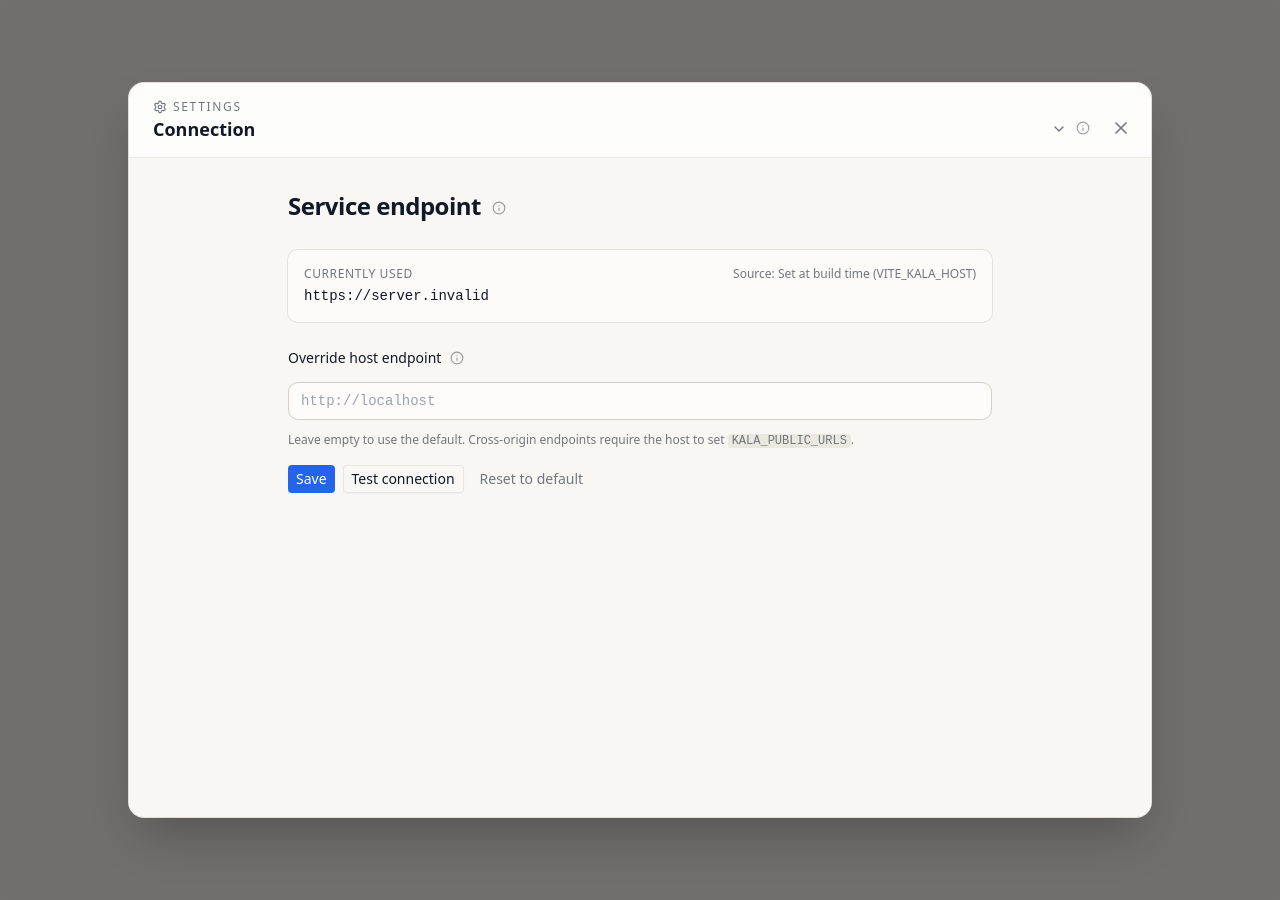
Scenario: SettingsDialog › uses a mobile-safe settings shell
Expected: the heading "Service endpoint" is shown, [288,189,511,222]
Expected: the label with test id "settings-mobile-section-picker" reads "Connection", [153,117,255,141]
Select "Runtime" in the dropdown with test id "settings-mobile-section-select" at (204, 129), box [153,117,1067,141]
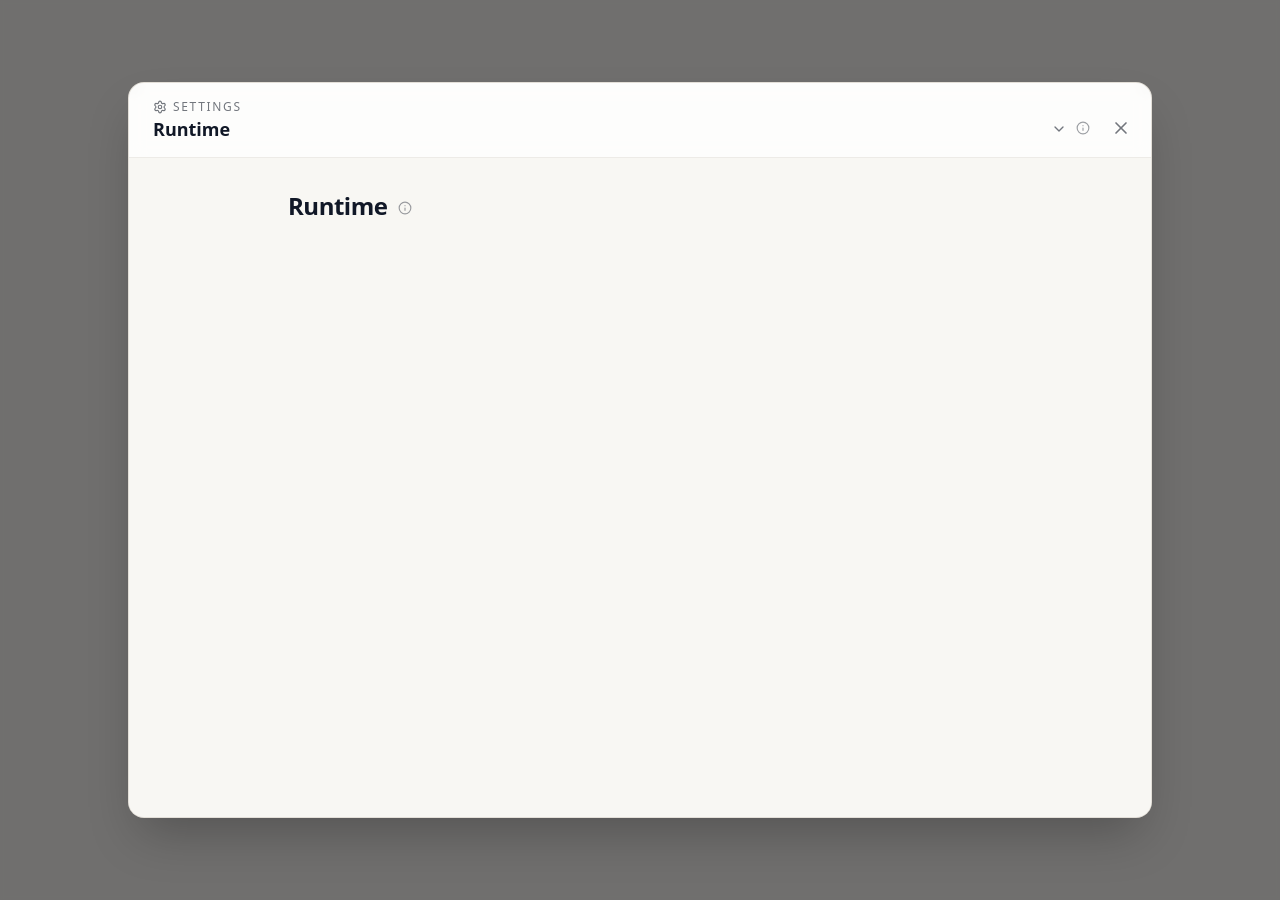
Expected: the heading "Runtime" is shown, [288,189,417,222]
